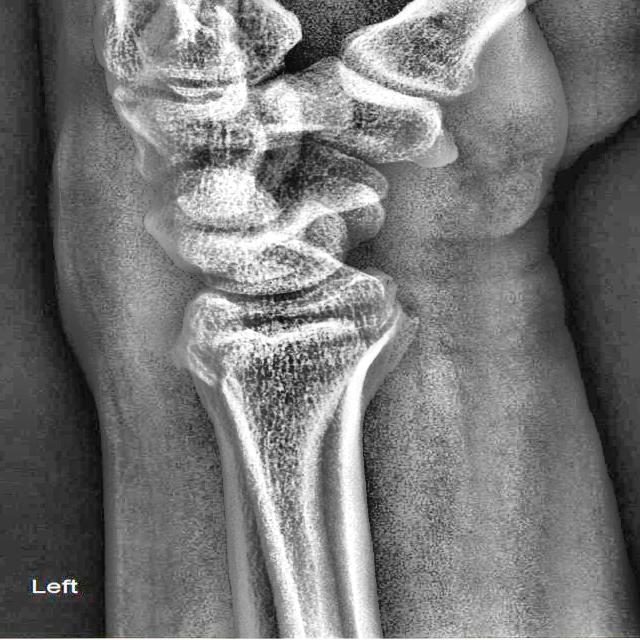fracture: (188, 344, 225, 389)
